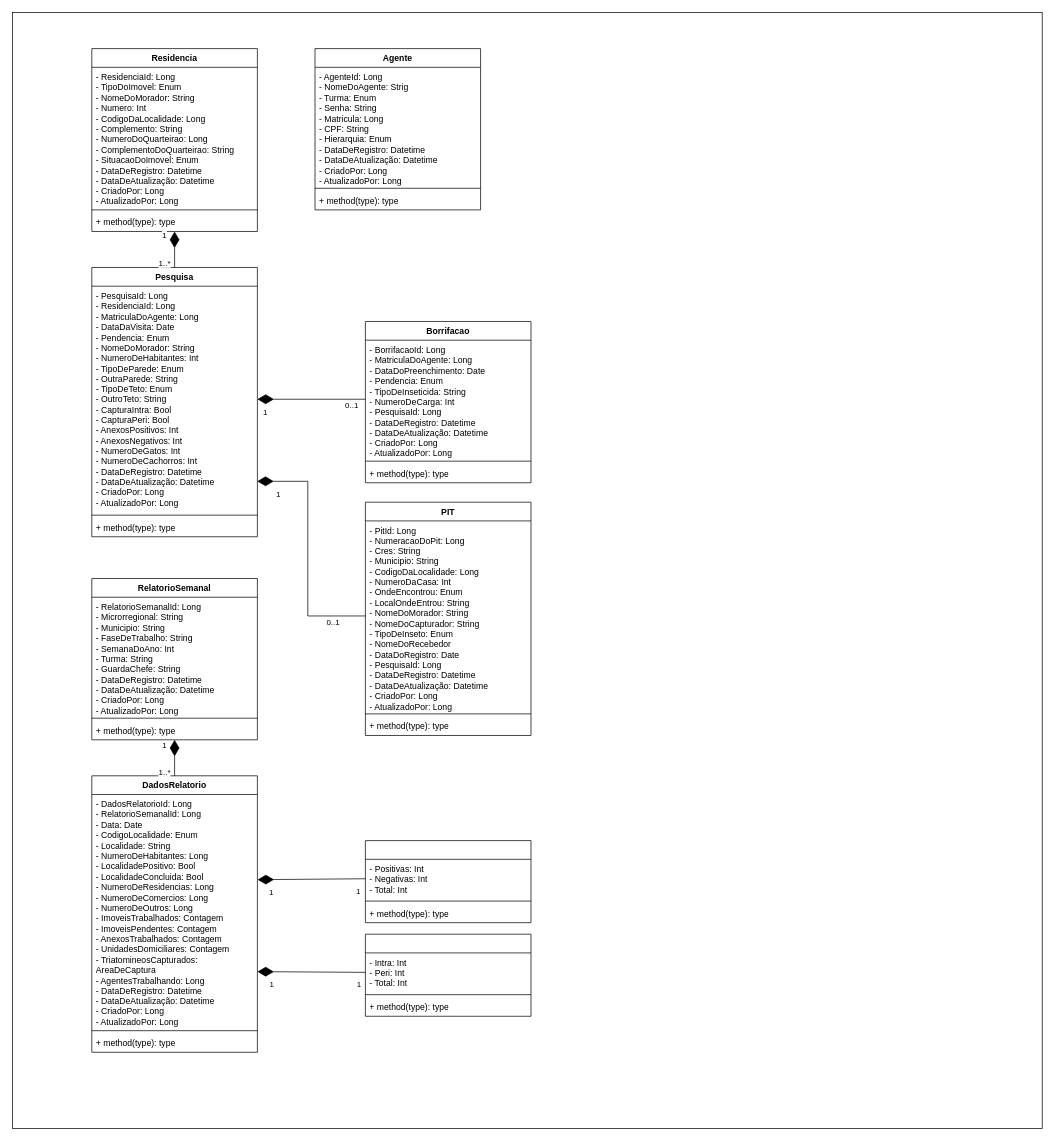
Image size: 1055x1141. Some labels were removed from this diagram. Here are the shapes that lost their labels. From the top down, the box of each, then its label:
(365, 840, 531, 923): Contagem
(365, 933, 531, 1016): AreaDeCaptura
